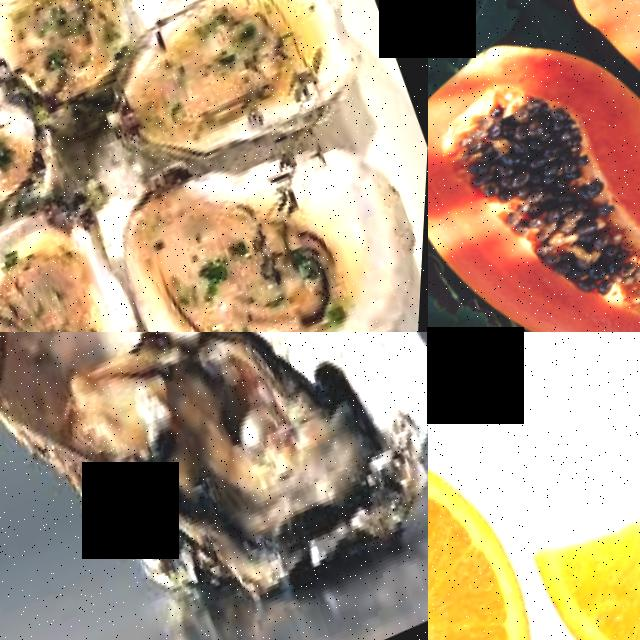orange: (428, 395, 605, 640), (520, 441, 640, 640)
oysters: (0, 332, 428, 640), (131, 145, 389, 332), (146, 0, 298, 135), (0, 218, 161, 332)
pawpaw: (428, 0, 640, 332), (548, 0, 640, 222)
